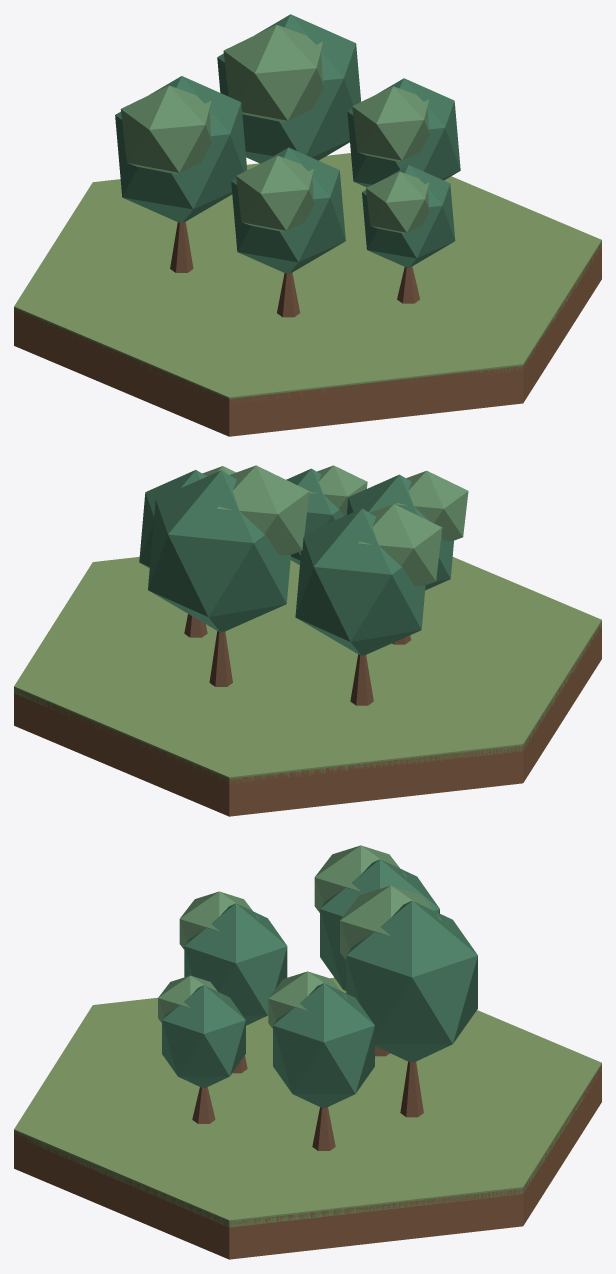
Rendered from woodland.glb.
3 views of the same model, one above another, from view 1: azimuth 30°, elevation 25°; view 2: azimuth 150°, elevation 25°; view 3: azimuth 270°, elevation 25° (orthographic).
Parts seen in each view (by area): view 1: Cone.015, Cone.014, Icosphere.024, Icosphere.026, Icosphere.027, Icosphere.030, Icosphere.025, Icosphere.028, Icosphere.031, Icosphere.029, Icosphere.032, Icosphere.033 (+3 smaller); view 2: Cone.015, Cone.014, Icosphere.026, Icosphere.024, Icosphere.027, Icosphere.025, Icosphere.031, Icosphere.030, Icosphere.032, Icosphere.028, Icosphere.033, Cone.017 (+1 smaller); view 3: Cone.015, Cone.014, Icosphere.026, Icosphere.028, Icosphere.030, Icosphere.032, Icosphere.024, Icosphere.027, Icosphere.025, Icosphere.031, Icosphere.029, Icosphere.033 (+3 smaller).
Boxes of the visible parts, <box> form: Cone.015: <box>14,153,601,402</box>; Cone.014: <box>14,242,601,436</box>; Icosphere.024: <box>115,76,246,222</box>; Icosphere.026: <box>217,14,361,163</box>; Icosphere.027: <box>223,25,323,122</box>; Icosphere.030: <box>231,147,345,273</box>; Icosphere.025: <box>120,85,212,174</box>; Icosphere.028: <box>347,78,460,187</box>; Icosphere.031: <box>236,155,314,232</box>; Icosphere.029: <box>352,86,429,161</box>; Icosphere.032: <box>362,165,455,267</box>; Icosphere.033: <box>366,171,429,233</box>; Cone.015: <box>14,557,601,783</box>; Cone.014: <box>14,623,601,816</box>; Icosphere.026: <box>148,470,290,632</box>; Icosphere.024: <box>295,508,425,655</box>; Icosphere.027: <box>216,465,309,554</box>; Icosphere.025: <box>357,504,442,585</box>; Icosphere.031: <box>396,470,468,540</box>; Icosphere.030: <box>346,474,453,590</box>; Icosphere.032: <box>286,468,343,564</box>; Icosphere.028: <box>139,470,206,568</box>; Icosphere.033: <box>309,465,367,516</box>; Cone.017: <box>209,631,232,686</box>; Cone.015: <box>14,977,601,1227</box>; Cone.014: <box>14,1065,601,1259</box>; Icosphere.026: <box>346,900,477,1062</box>; Icosphere.028: <box>273,983,374,1107</box>; Icosphere.030: <box>184,903,287,1025</box>; Icosphere.032: <box>162,985,245,1087</box>; Icosphere.024: <box>320,859,439,990</box>; Icosphere.027: <box>340,885,441,959</box>; Icosphere.025: <box>314,845,406,912</box>; Icosphere.031: <box>179,891,258,949</box>; Icosphere.029: <box>268,971,346,1028</box>; Icosphere.033: <box>158,975,222,1022</box>.
Bounding box in the file's own units: 3.67 × 1.76 × 3.67.
